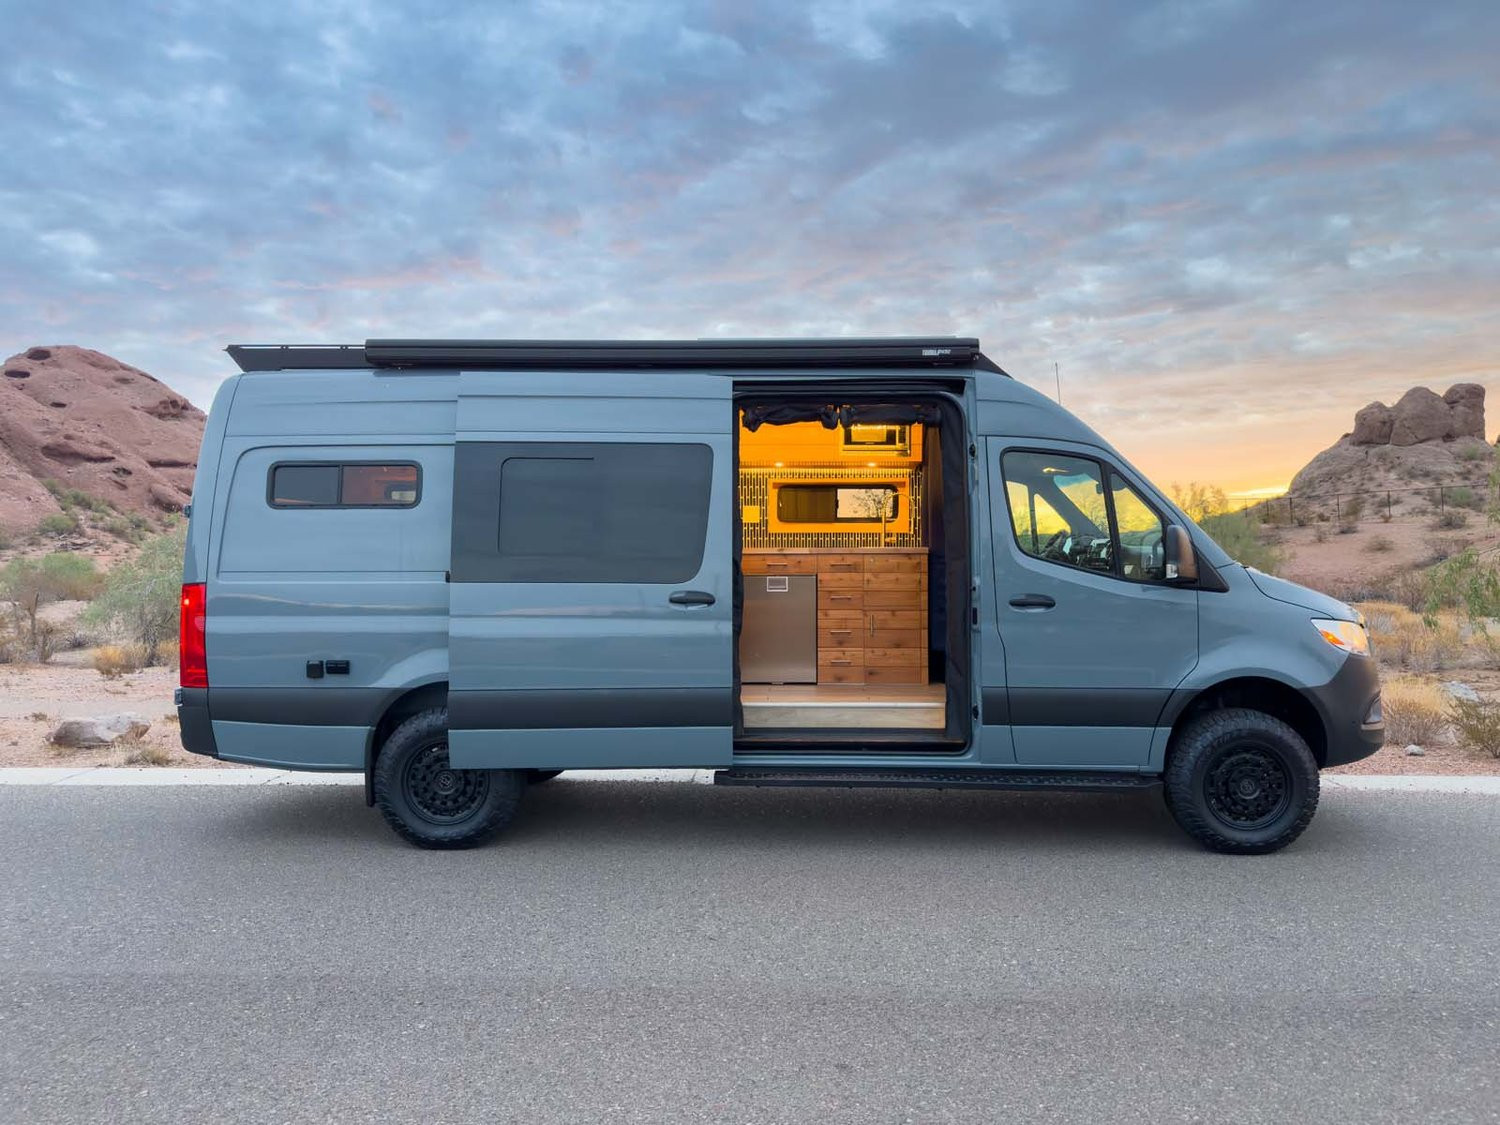van: (171, 336, 1389, 854)
